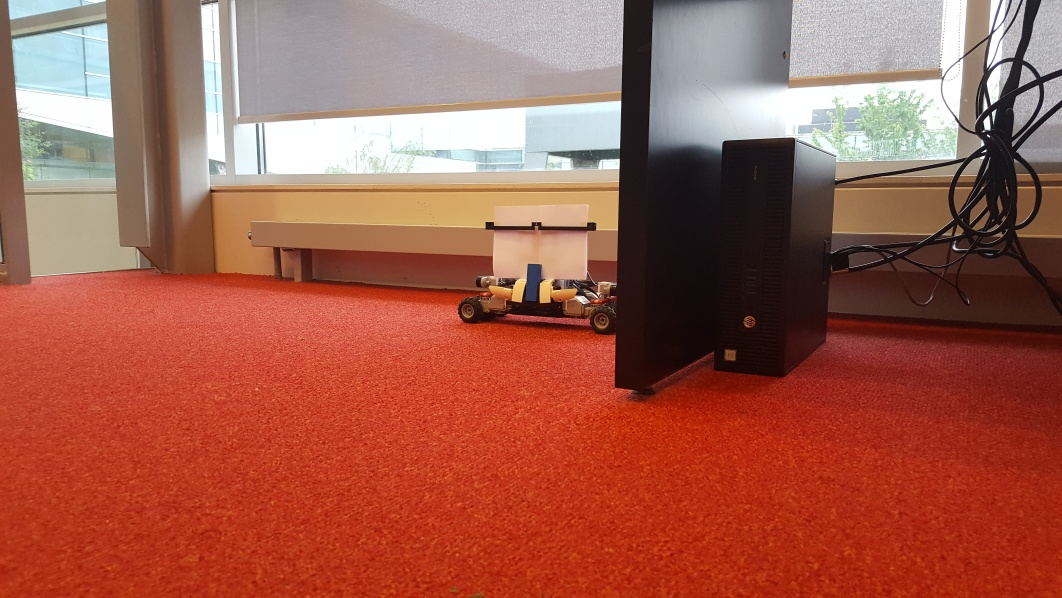car: (459, 198, 618, 339)
